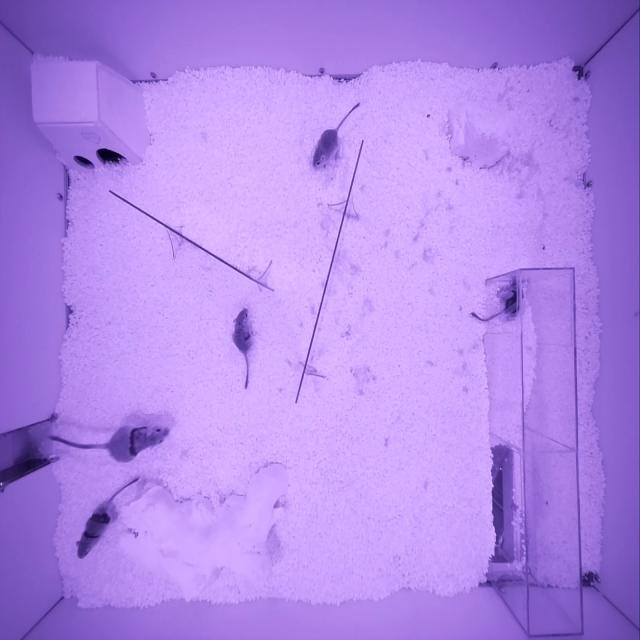adult_front: (106, 424, 169, 464)
pup_fluffy: (312, 129, 338, 167)
pup_h_stripe: (76, 508, 110, 559)
pup_spotted: (231, 308, 255, 355)
pup_v_stripe: (499, 282, 523, 318)
